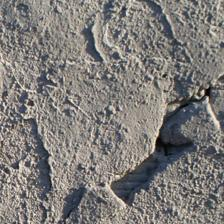Crack: (57, 44, 152, 163)
